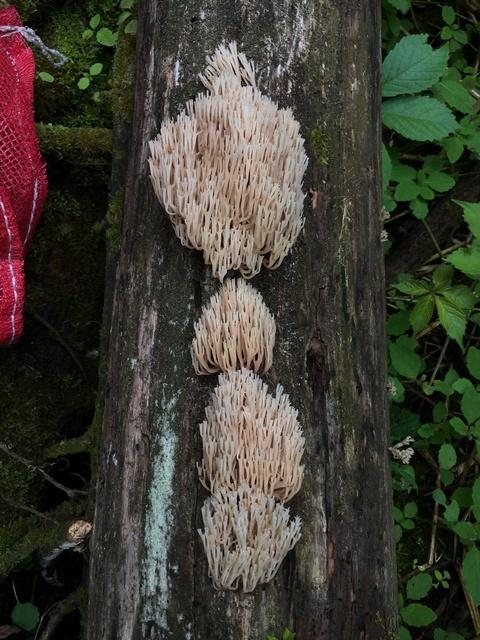edible_mushroom: (146, 39, 309, 282), (194, 367, 306, 592), (196, 486, 302, 592), (188, 276, 276, 376)
